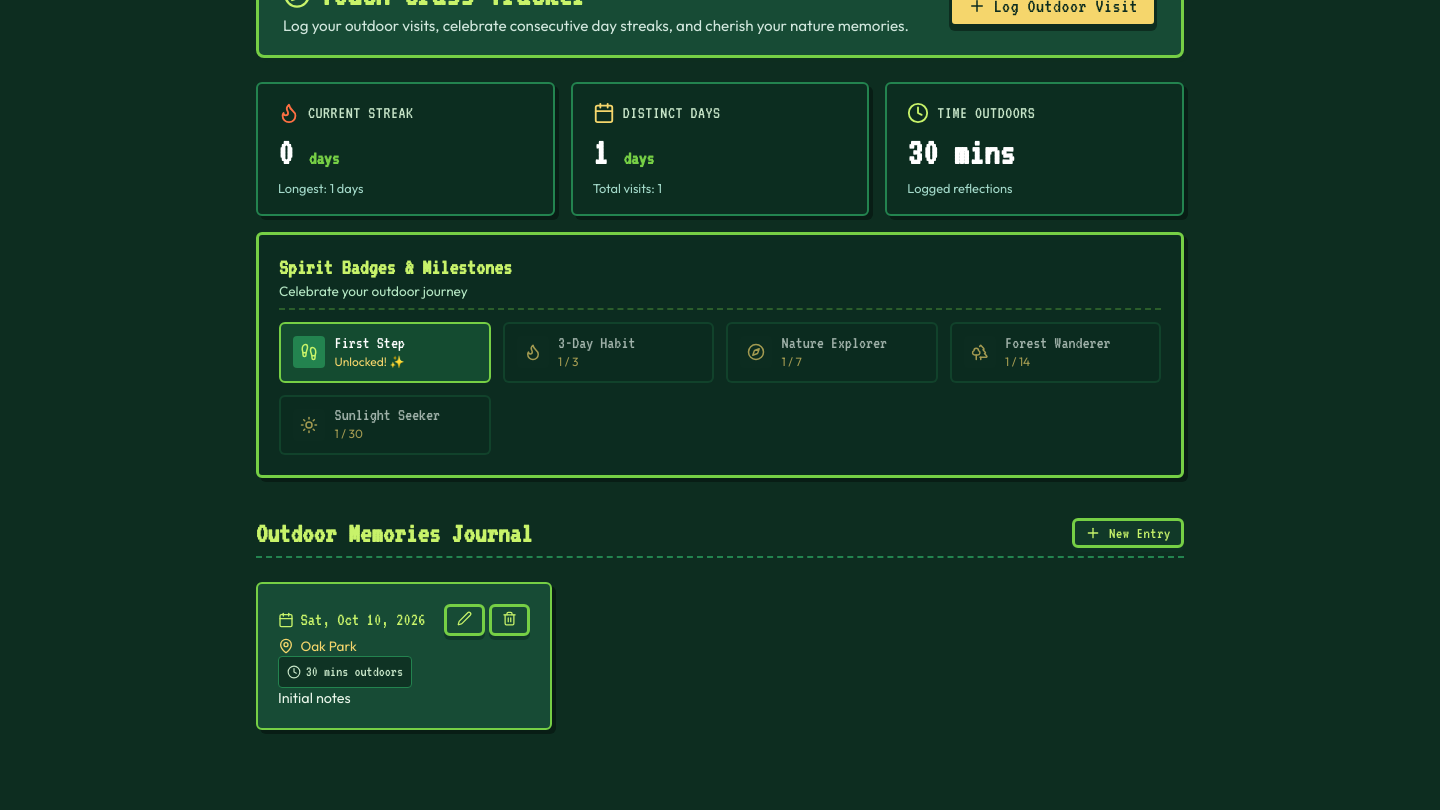
Test: Milestone 4 — TrackerPage Integration Tests › allows editing an existing visit
The width and height of the screenshot is (1440, 810).
(page scrolled)
Check: the text "Oak Park" is shown, box [300,636,357,656]
# Click edit button
Click the button named "Edit visit from" at coordinates (464, 620), box [444,604,485,636]
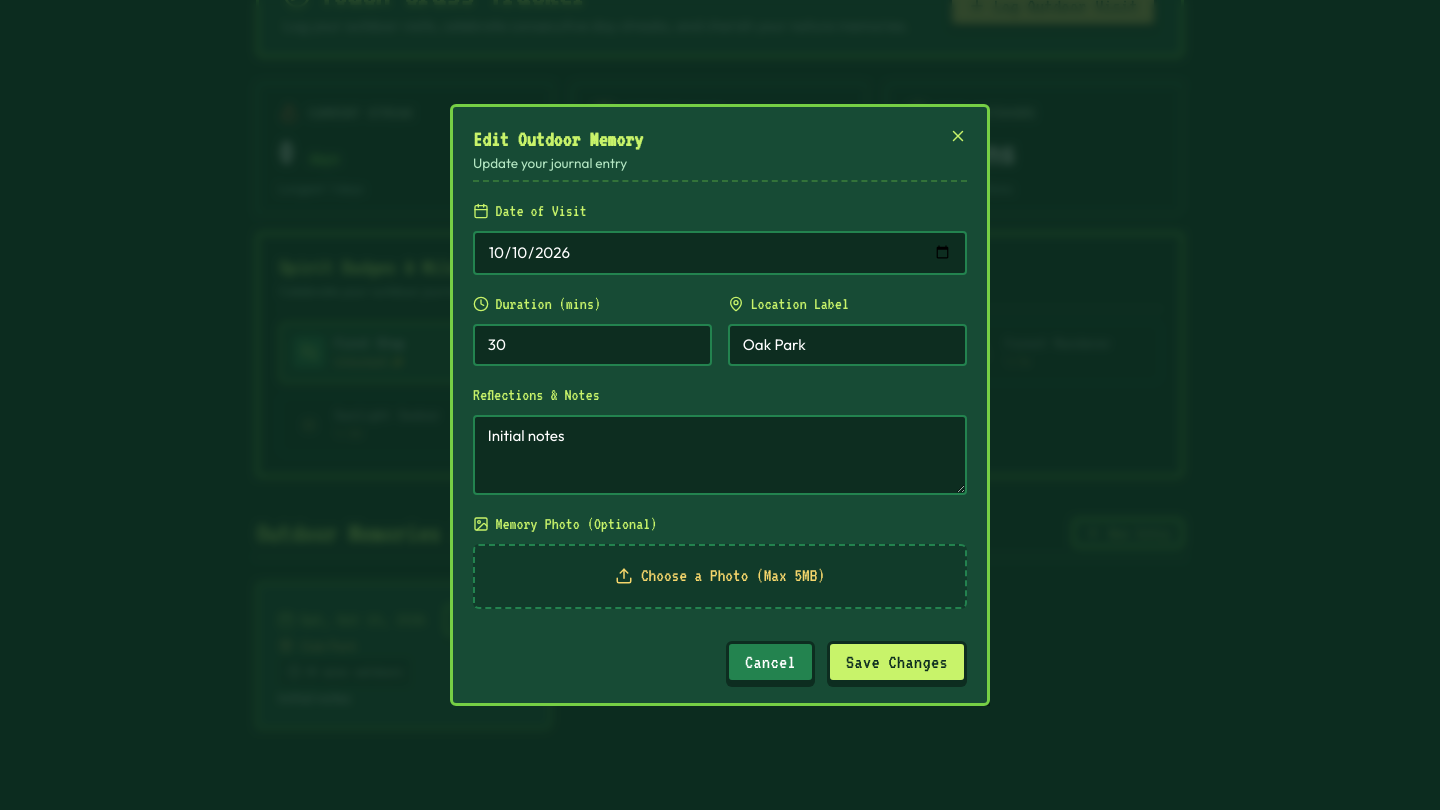
# Update location name
Replace the text in the field with placeholder "e.g. Greenwood Park" with "Oak Park Reserve" at coordinates (848, 345), box [728,324,967,366]
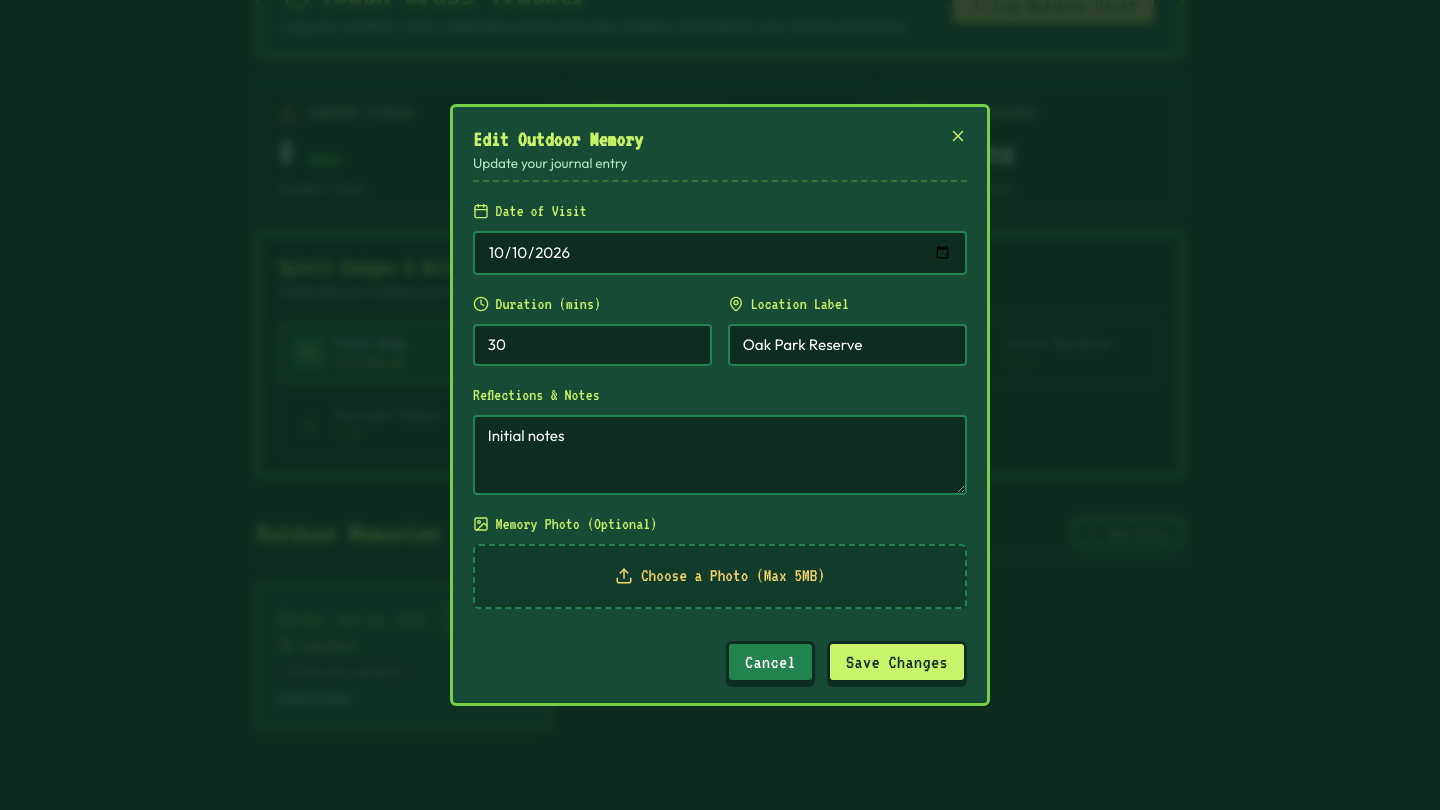
Click the button "Save Changes" at coordinates (897, 662), box [827,641,967,683]
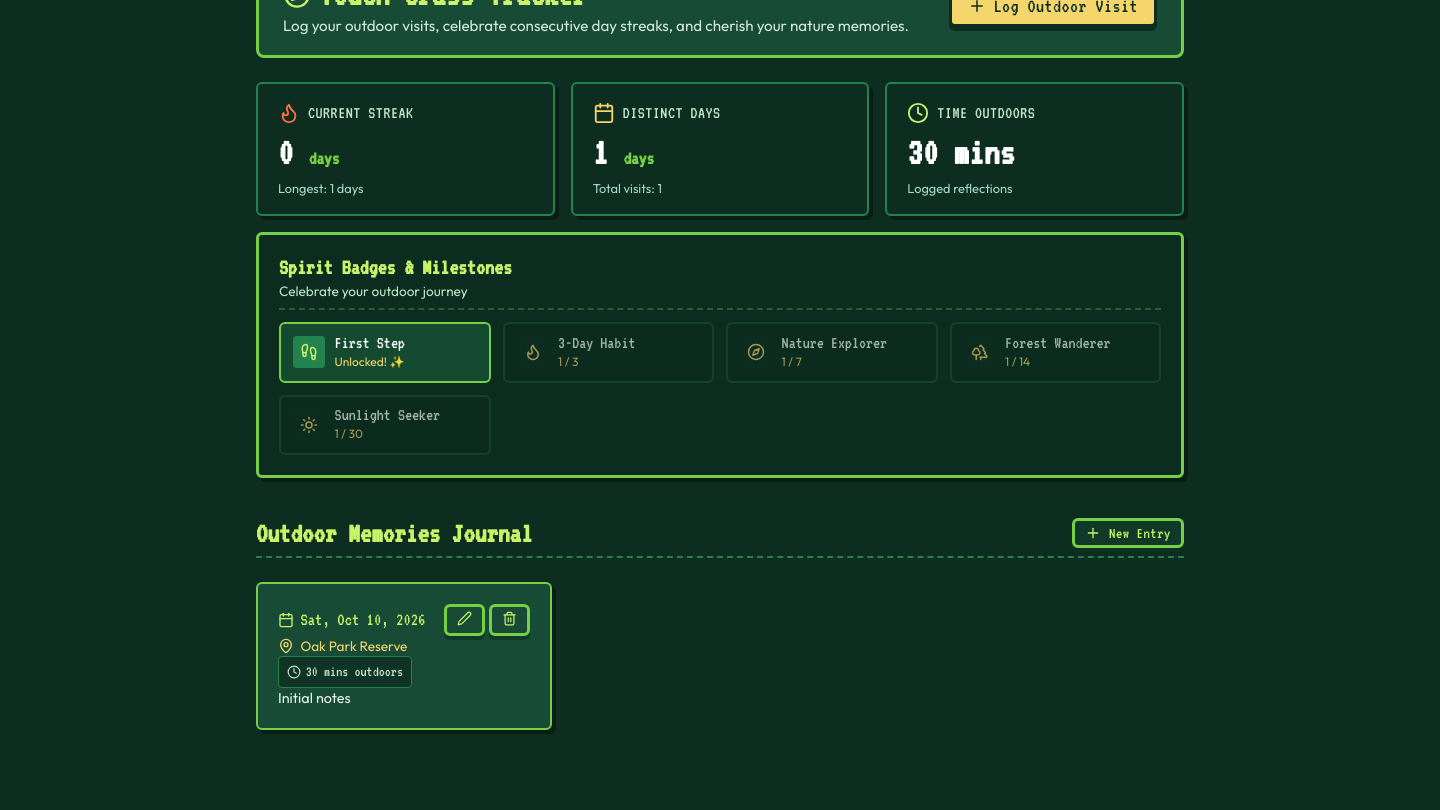
Check: the text "Oak Park Reserve" is shown, box [300,636,407,656]
